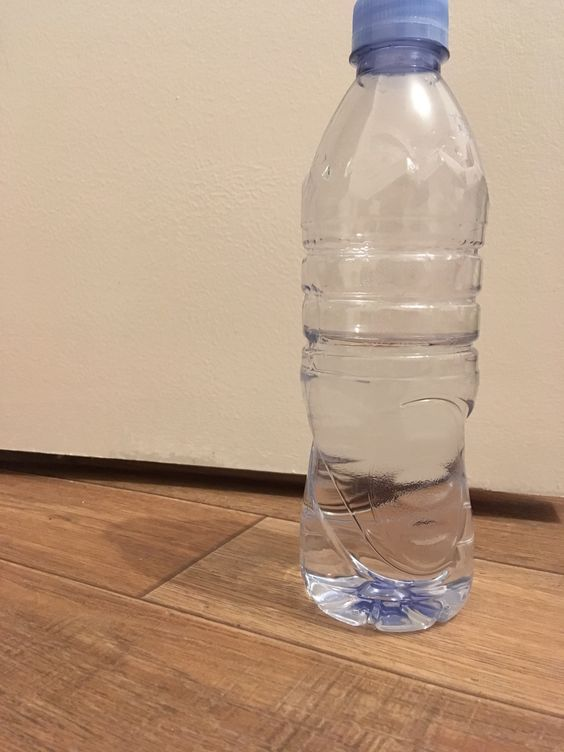Metal: (336, 0, 464, 74)
paper: (288, 56, 486, 646)
